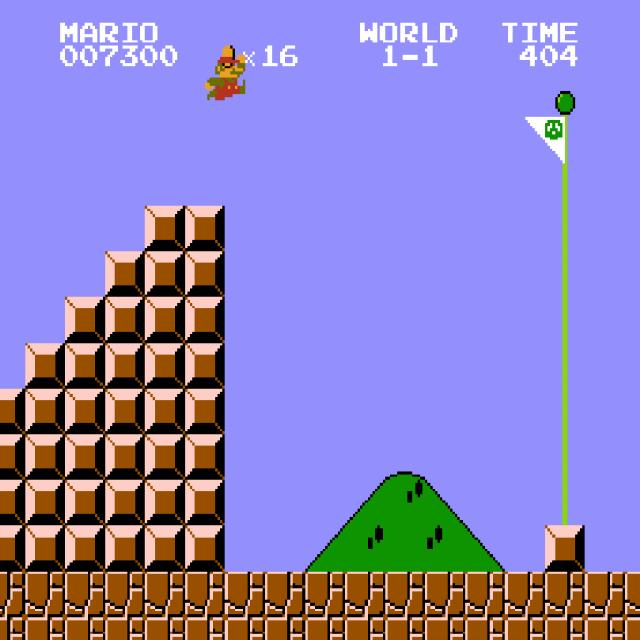goal_pole: (545, 114, 585, 160), (545, 160, 585, 206), (545, 297, 585, 343), (545, 434, 585, 480), (545, 480, 585, 526), (545, 69, 585, 114), (545, 206, 585, 251), (545, 252, 585, 297), (545, 343, 585, 388), (545, 389, 585, 434)
hard_block: (25, 434, 65, 480), (25, 480, 65, 526), (65, 297, 105, 343), (65, 434, 105, 480), (65, 480, 105, 526), (105, 297, 145, 343), (105, 434, 145, 480), (105, 480, 145, 526), (145, 297, 185, 343), (145, 434, 185, 480), (145, 480, 185, 526), (185, 297, 225, 343), (185, 434, 225, 480), (185, 480, 225, 526), (25, 343, 65, 388), (25, 389, 65, 434), (25, 526, 65, 571), (65, 343, 105, 388), (65, 389, 105, 434), (65, 526, 105, 571), (105, 252, 145, 297), (105, 343, 145, 388), (105, 389, 145, 434), (105, 526, 145, 571), (145, 206, 185, 251), (145, 252, 185, 297), (145, 343, 185, 388), (145, 389, 185, 434), (145, 526, 185, 571), (185, 206, 225, 251), (185, 252, 225, 297), (185, 343, 225, 388), (185, 389, 225, 434), (185, 526, 225, 571), (545, 526, 585, 571), (0, 388, 25, 434), (0, 525, 25, 571), (0, 434, 25, 479), (0, 480, 25, 525)
little_mario: (203, 51, 245, 100)
undestructible_block: (25, 572, 65, 617), (65, 572, 105, 617), (105, 572, 145, 617), (145, 572, 185, 617), (185, 572, 225, 617), (225, 572, 265, 617), (265, 572, 305, 617), (305, 572, 345, 617), (345, 572, 385, 617), (385, 572, 425, 617), (425, 572, 465, 617), (465, 572, 505, 617), (505, 572, 545, 617), (545, 572, 585, 617), (585, 572, 625, 617), (0, 571, 25, 617), (25, 617, 65, 640), (65, 617, 105, 640), (105, 617, 145, 640), (145, 617, 185, 640), (185, 617, 225, 640), (225, 617, 265, 640), (265, 617, 305, 640), (305, 617, 345, 640), (345, 617, 385, 640), (385, 617, 425, 640), (425, 617, 465, 640), (465, 617, 505, 640), (505, 617, 545, 640), (545, 617, 585, 640), (585, 617, 625, 640), (625, 572, 640, 617), (0, 617, 25, 639), (625, 617, 640, 640)
